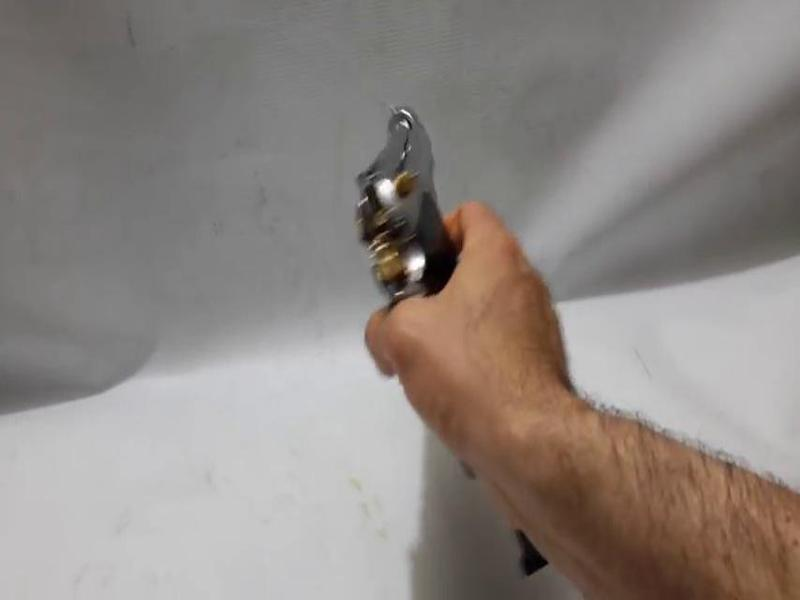Pistola: (332, 94, 511, 354)
